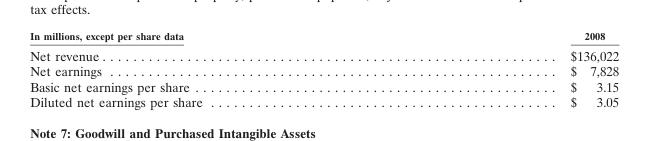table: (29, 29, 618, 109)
table column: (29, 29, 385, 109), (385, 29, 618, 109)
table column header: (29, 29, 618, 44)
table row: (29, 44, 618, 63), (29, 78, 618, 94), (29, 29, 618, 44), (29, 63, 618, 78), (29, 94, 618, 109)
